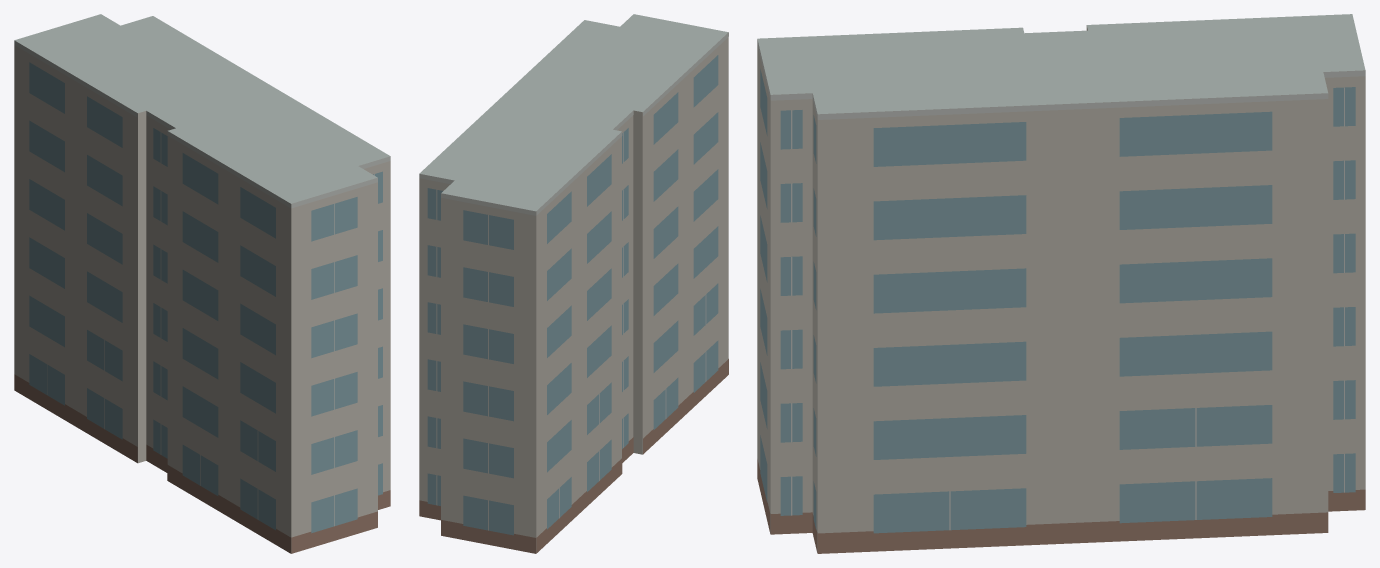
Rendered from survey-upis-32917462.glb.
3 renders of one model, left to right at view 1: azimuth 30°, elevation 25°; view 2: azimuth 150°, elevation 25°; view 3: azimuth 270°, elevation 25°, orthographic. The views are drawn at different scales.
Visible parts, largest first — view 1: survey-upis-32917462.tmp; view 2: survey-upis-32917462.tmp; view 3: survey-upis-32917462.tmp.
Part boxes in pixels (x1=…): survey-upis-32917462.tmp: x1=14, y1=14, x2=390, y2=553; survey-upis-32917462.tmp: x1=419, y1=14, x2=728, y2=553; survey-upis-32917462.tmp: x1=757, y1=14, x2=1365, y2=553.
Bounding box in the file's own units: 9.01 × 18.4 × 23.08.
